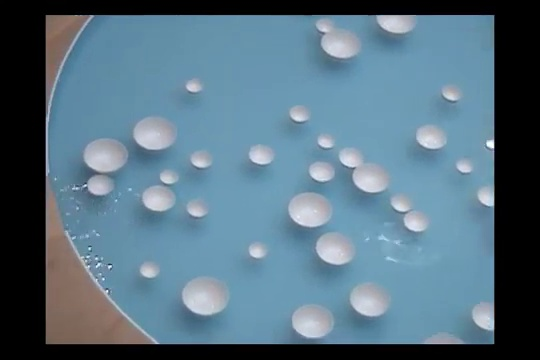bowl: (180, 273, 229, 316), (81, 136, 129, 174), (130, 114, 179, 151), (287, 191, 334, 228), (290, 303, 338, 339), (348, 281, 391, 316), (319, 29, 364, 61), (315, 231, 356, 265), (350, 162, 391, 194), (140, 184, 179, 212), (415, 123, 451, 150), (375, 14, 421, 35), (84, 173, 118, 198), (470, 298, 495, 330), (308, 160, 338, 184), (338, 145, 366, 168), (247, 143, 276, 165), (403, 210, 428, 233), (424, 332, 467, 345), (287, 103, 312, 125), (185, 198, 211, 219), (139, 257, 162, 280), (189, 149, 214, 170), (439, 84, 464, 104), (389, 192, 413, 212), (478, 183, 495, 208), (455, 157, 476, 176), (314, 17, 337, 34), (157, 168, 180, 185), (316, 133, 337, 151), (247, 241, 268, 259), (184, 77, 205, 94)
